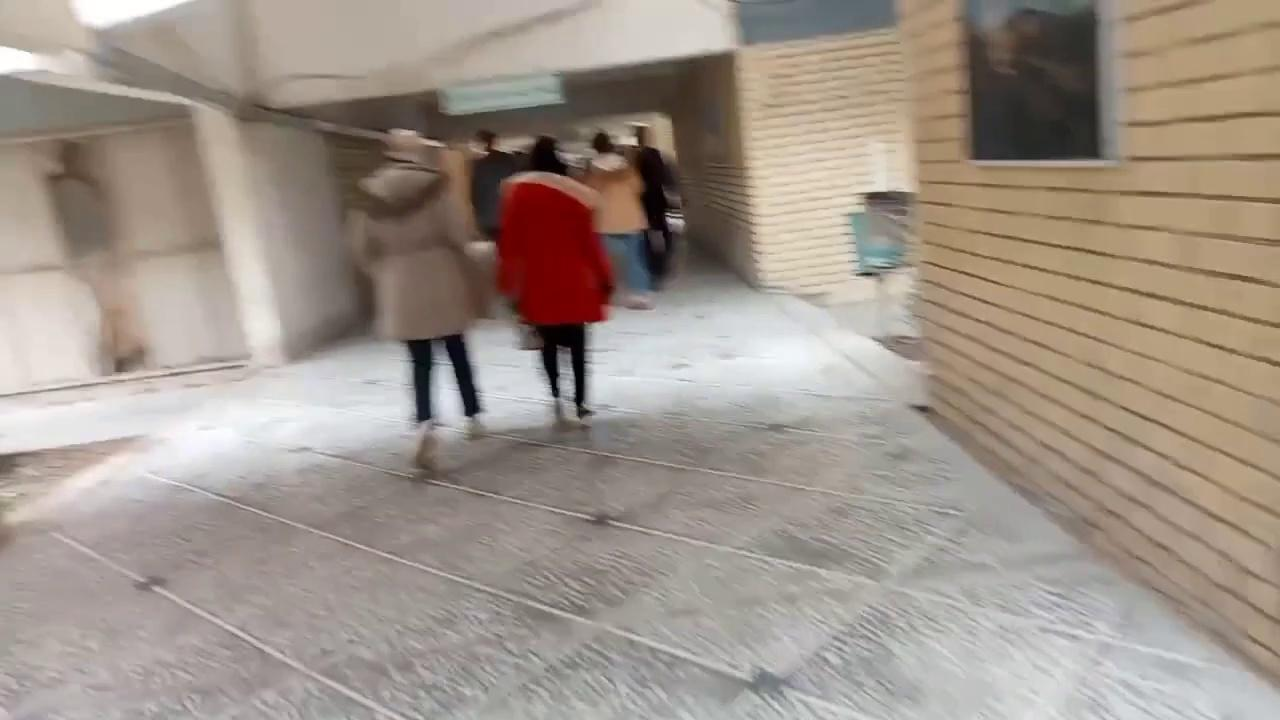person: (349, 127, 488, 472), (494, 134, 616, 421), (577, 130, 656, 310), (626, 125, 675, 288), (469, 128, 516, 241)
